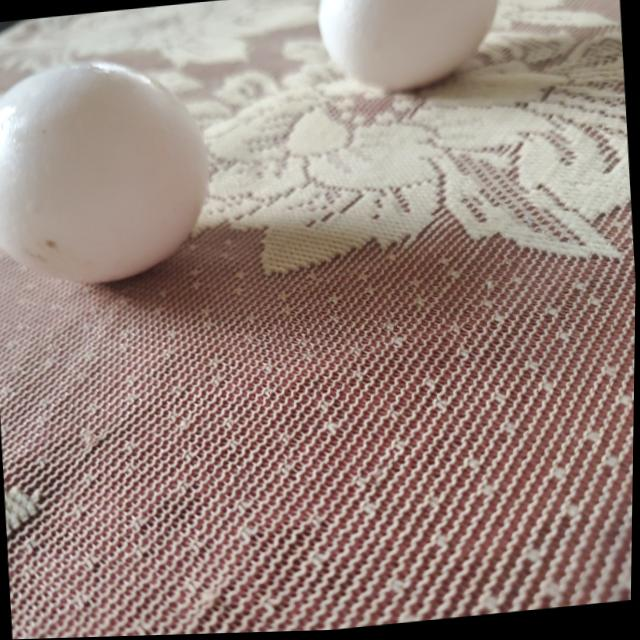egg: (0, 44, 223, 289), (312, 0, 503, 99)
